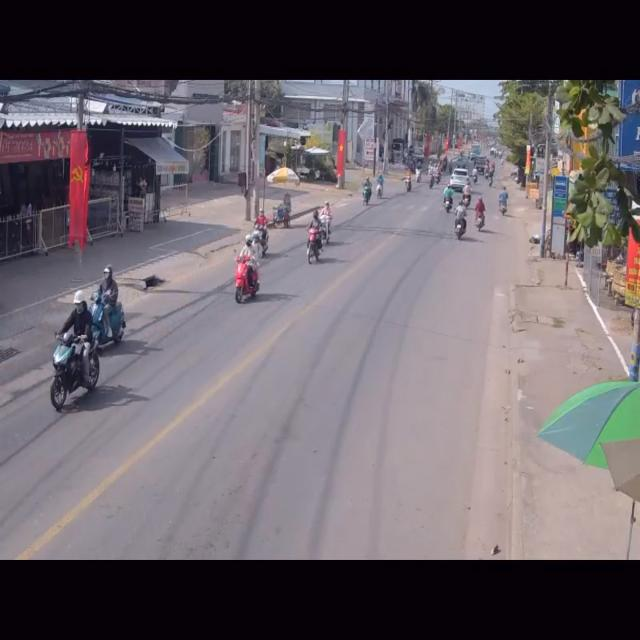motorbike: (52, 299, 100, 414), (88, 264, 124, 356), (233, 242, 262, 308), (306, 212, 326, 268), (250, 209, 269, 251), (321, 202, 335, 237), (455, 205, 468, 240), (477, 196, 488, 233), (361, 175, 372, 206), (498, 185, 509, 216), (378, 171, 386, 200)
